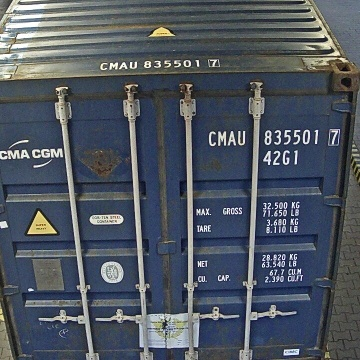serial_id: (209, 129, 339, 145)
